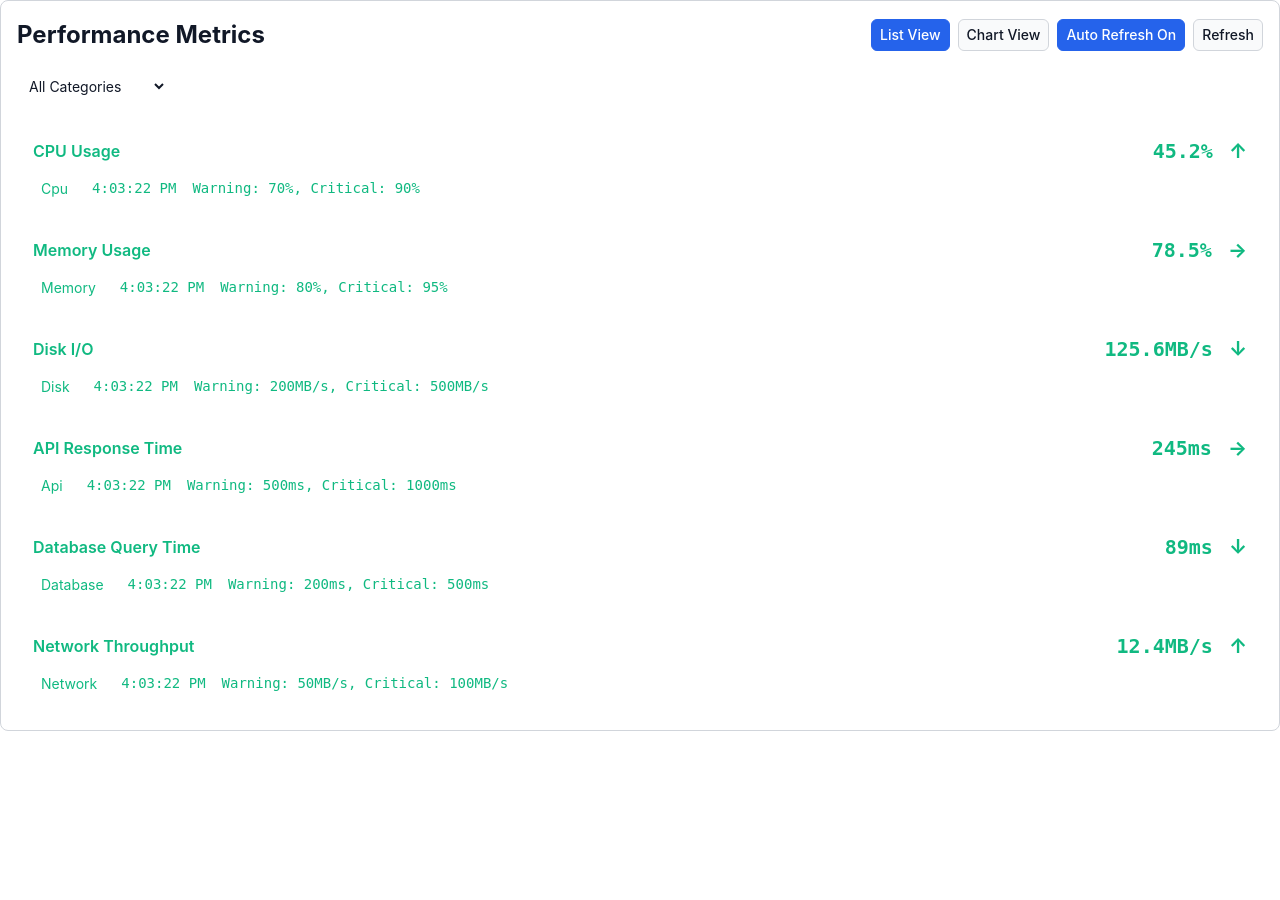
Test: PerformanceMetrics Component › filters metrics by category
Expected: the heading "Performance Metrics" is shown, [17,17,265,53]
Expected: the text "CPU Usage" is shown, [33,141,120,161]
# Filter by CPU category
Select "CPU" in the dropdown at (92, 86), box [17,69,167,104]
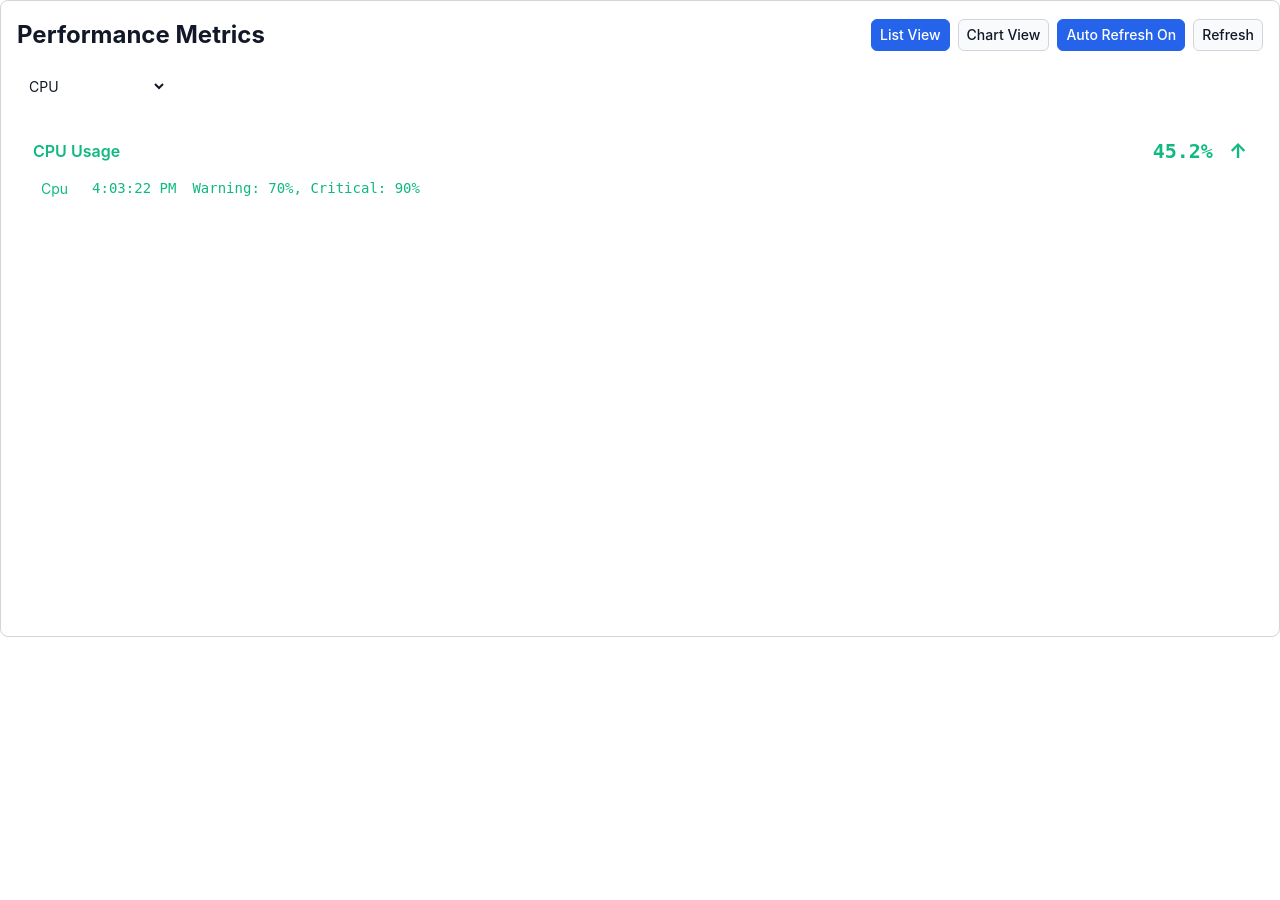
Expected: the text "CPU Usage" is shown, [33,141,120,161]
Now the text "Memory Usage" is gone
